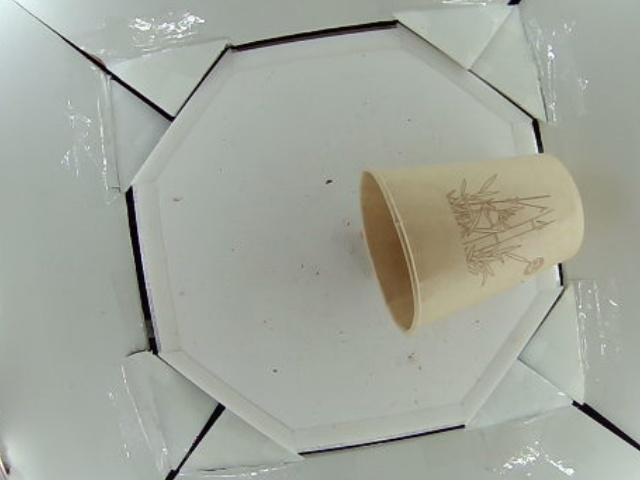Cup: (362, 153, 584, 331)
